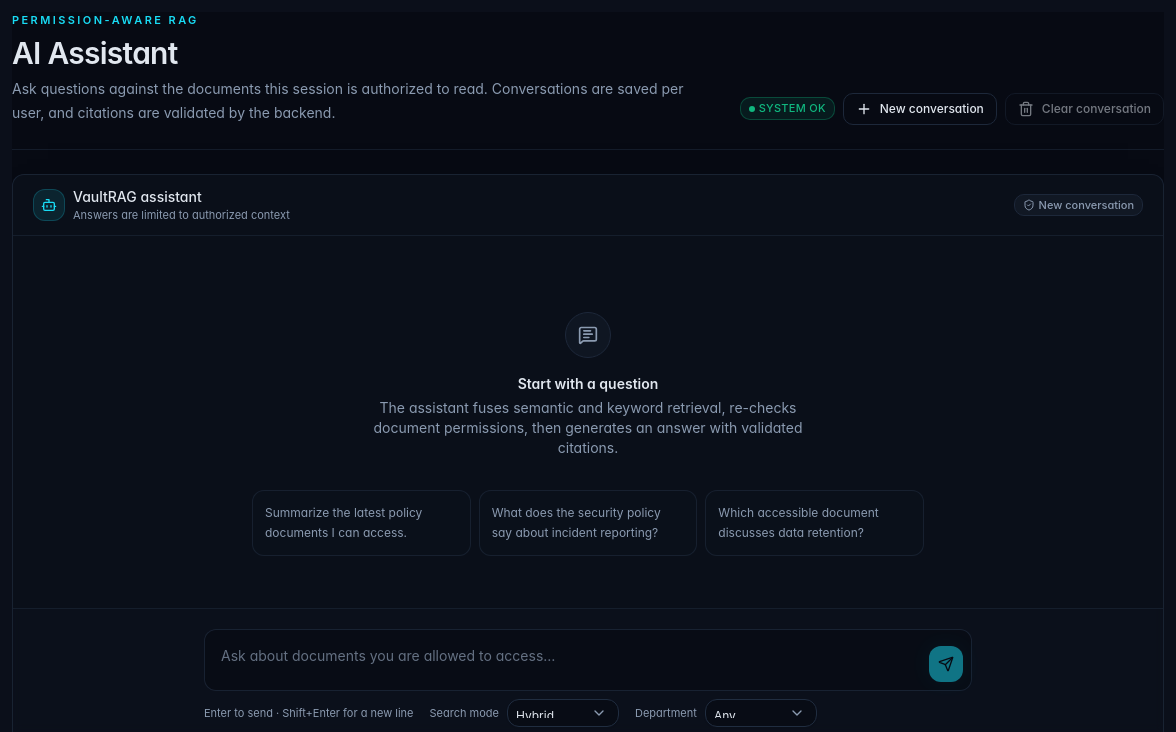
ChatPage › renders model supplied HTML as inert text
In the text box named "Question": coordinates (567, 660) [213,638,921,682], type "What does the security policy say about incident reporting?"
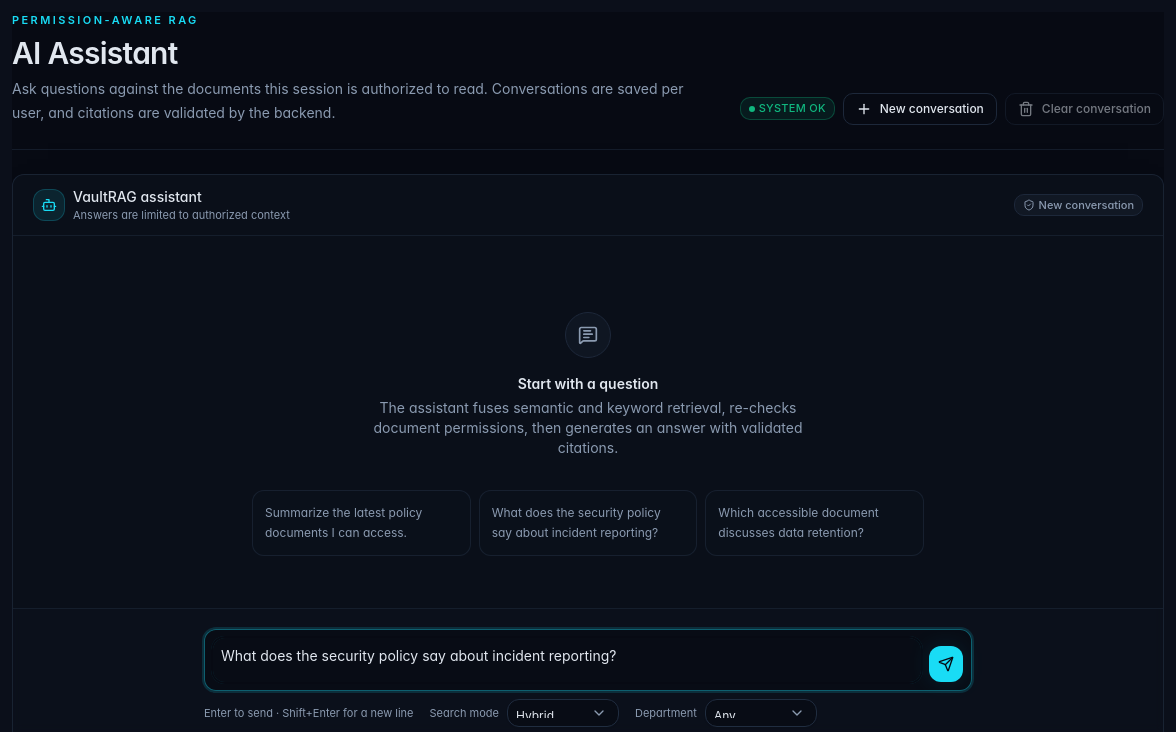
Click the button named "Send question": coordinates (946, 664) [929,646,963,682]
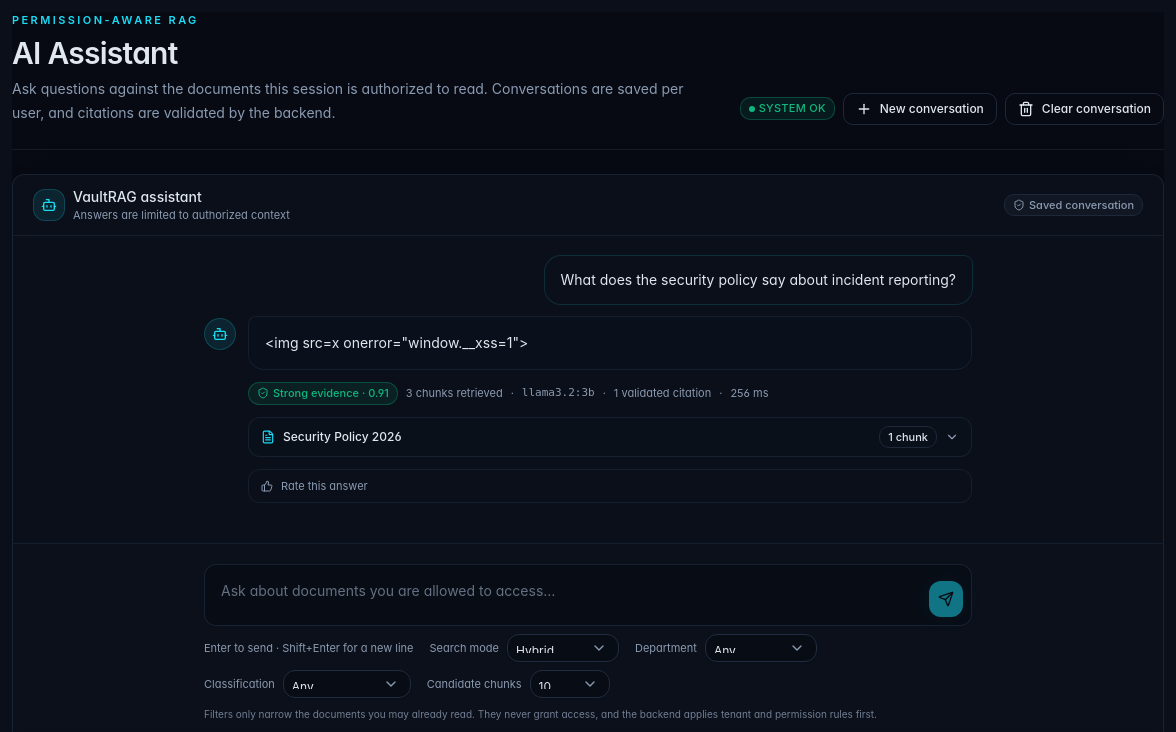
Expected: the text "<img src=x onerror=\"window.__xss=1\">" is shown, [265,334,528,351]
